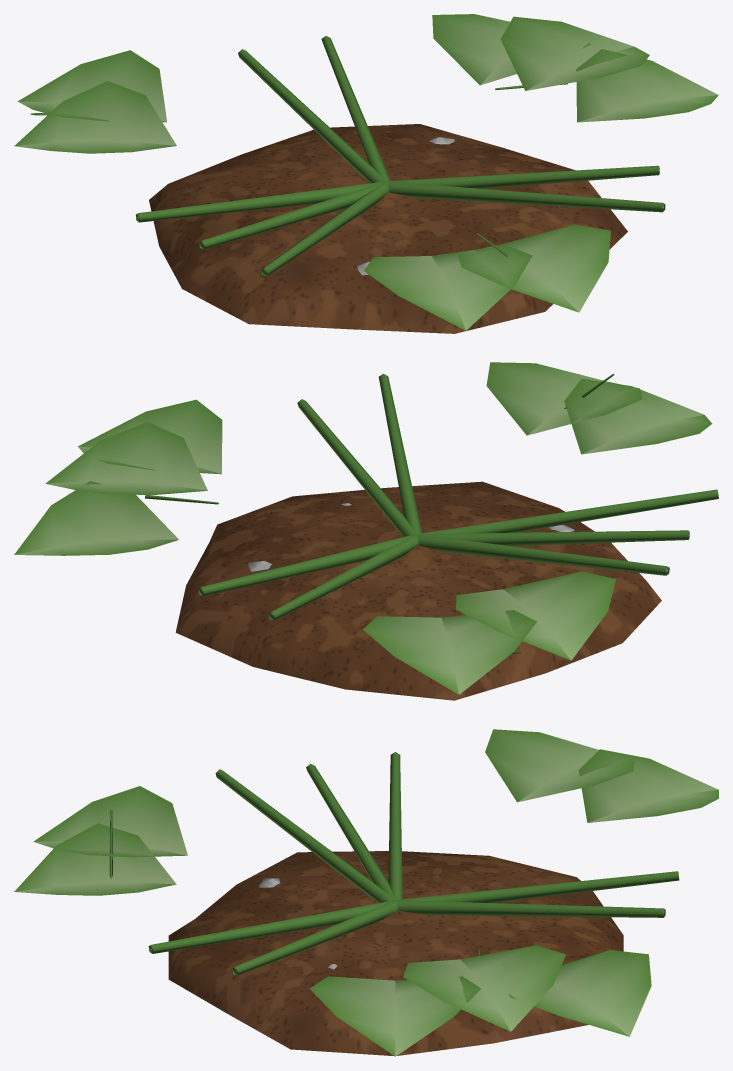
File: plant-pumpkin-2.glb
3 views of the same model, one above another, from view 1: azimuth 30°, elevation 25°; view 2: azimuth 150°, elevation 25°; view 3: azimuth 270°, elevation 25° (orthographic). The views are drawn at different scales.
Parts seen in each view (by area): view 1: plant-pumpkin-2; view 2: plant-pumpkin-2; view 3: plant-pumpkin-2.
Part boxes in pixels (box(x1,y1,x2,y2)): plant-pumpkin-2: box(14, 14, 718, 333); plant-pumpkin-2: box(14, 362, 718, 700); plant-pumpkin-2: box(14, 729, 718, 1056).
Size of the model in its own units: 1.23 by 0.2439 by 1.27.
Materials: 4 (2 with a texture image).
